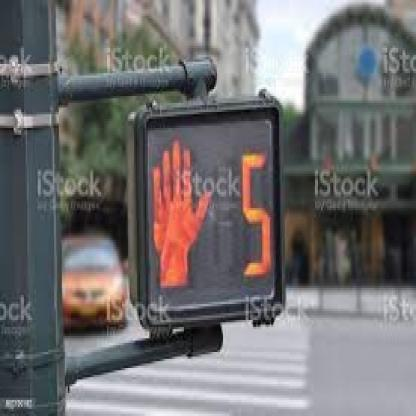Don-t Walk: (142, 115, 231, 316)
